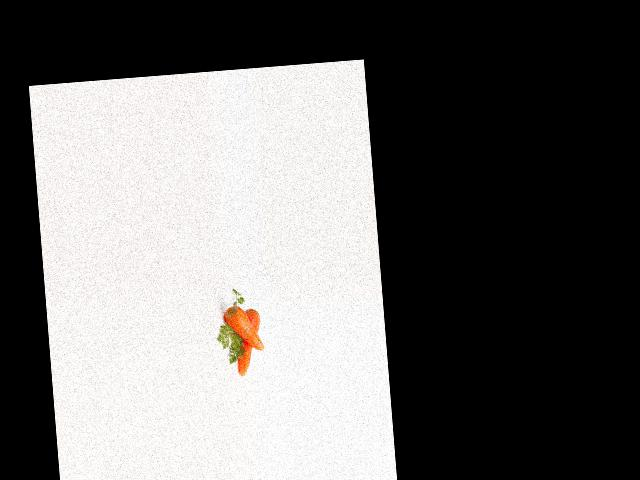carrot: (233, 307, 264, 376)
